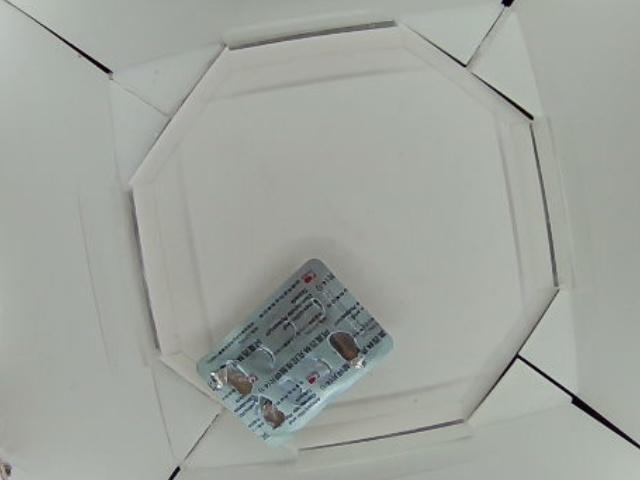Medicine: (198, 256, 395, 449)
